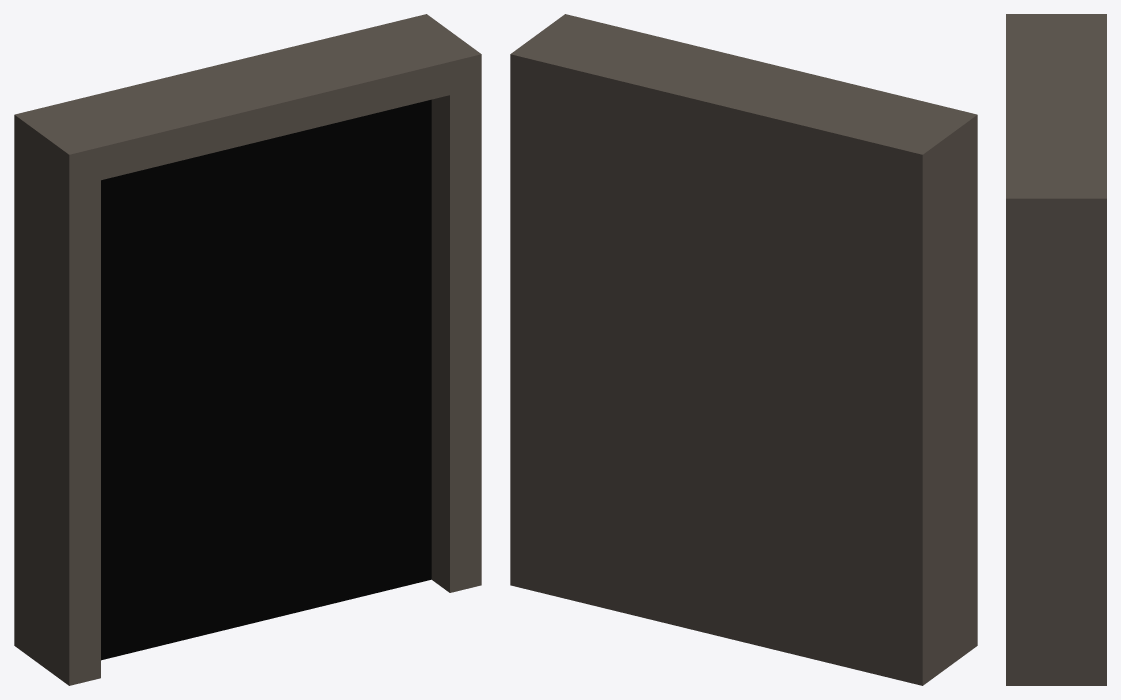
Rendered from dungeon_a_a_entrance_a.obj.
3 renders of one model, left to right at view 1: azimuth 30°, elevation 25°; view 2: azimuth 150°, elevation 25°; view 3: azimuth 270°, elevation 25°, orthographic. The views are drawn at different scales.
Size of the model in its own units: 1.3 by 1.6 by 0.3.
1 material, 1 textured.
